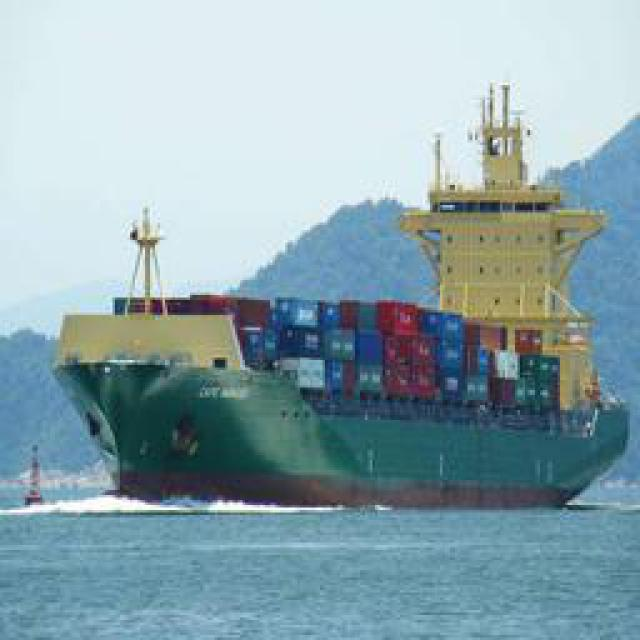Ship: (45, 110, 630, 528)
